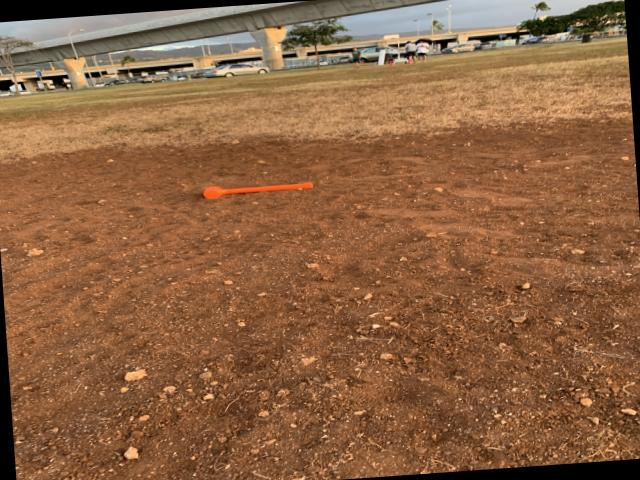hammer: (200, 178, 316, 198)
